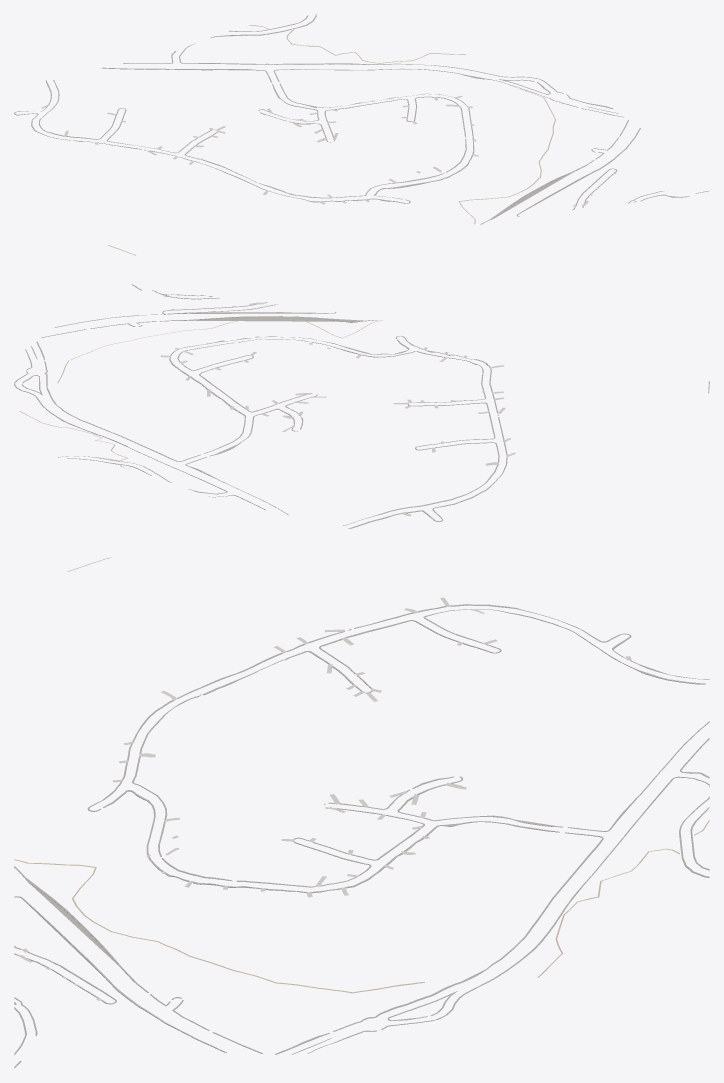
Rendered from ground_r0_c0.glb.
3 renders of one model, top to bottom at view 1: azimuth 30°, elevation 25°; view 2: azimuth 150°, elevation 25°; view 3: azimuth 270°, elevation 25°, orthographic. The views are drawn at different scales.
Visible parts, largest first — view 1: sidewalks, driveways, paths; view 2: sidewalks, driveways, paths; view 3: sidewalks, driveways, paths.
Boxes of the visible parts, x1,y1,x2,y2 form: sidewalks: (14, 14, 709, 224); driveways: (41, 95, 616, 206); paths: (108, 25, 555, 255); sidewalks: (14, 284, 507, 528); driveways: (160, 302, 515, 516); paths: (19, 318, 709, 468); sidewalks: (14, 604, 709, 1068); driveways: (18, 597, 631, 1000); paths: (14, 557, 709, 993).
Size of the model in its own units: 1125 by 135 by 788.
